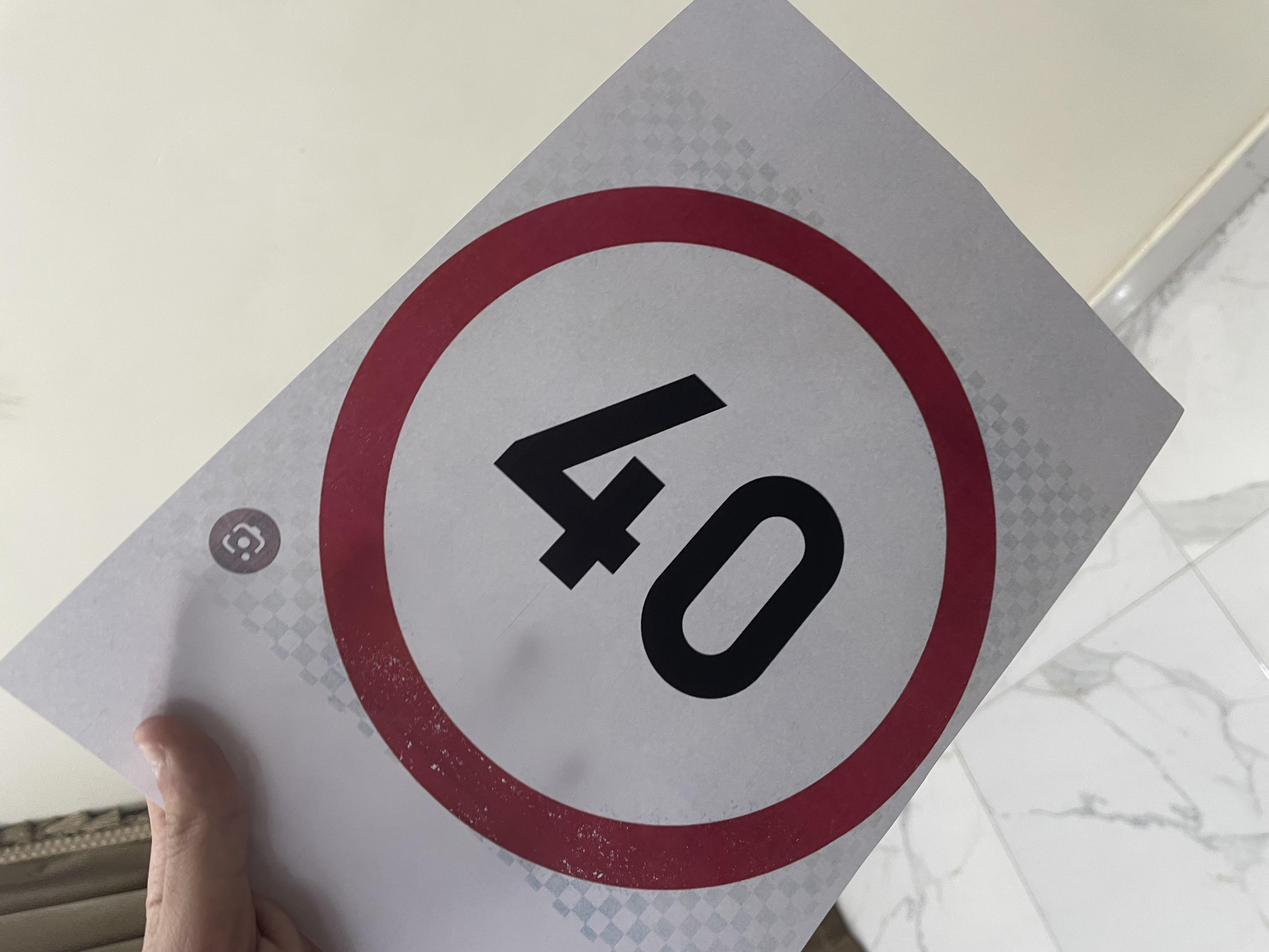40-Speed: (97, 234, 1023, 749)
